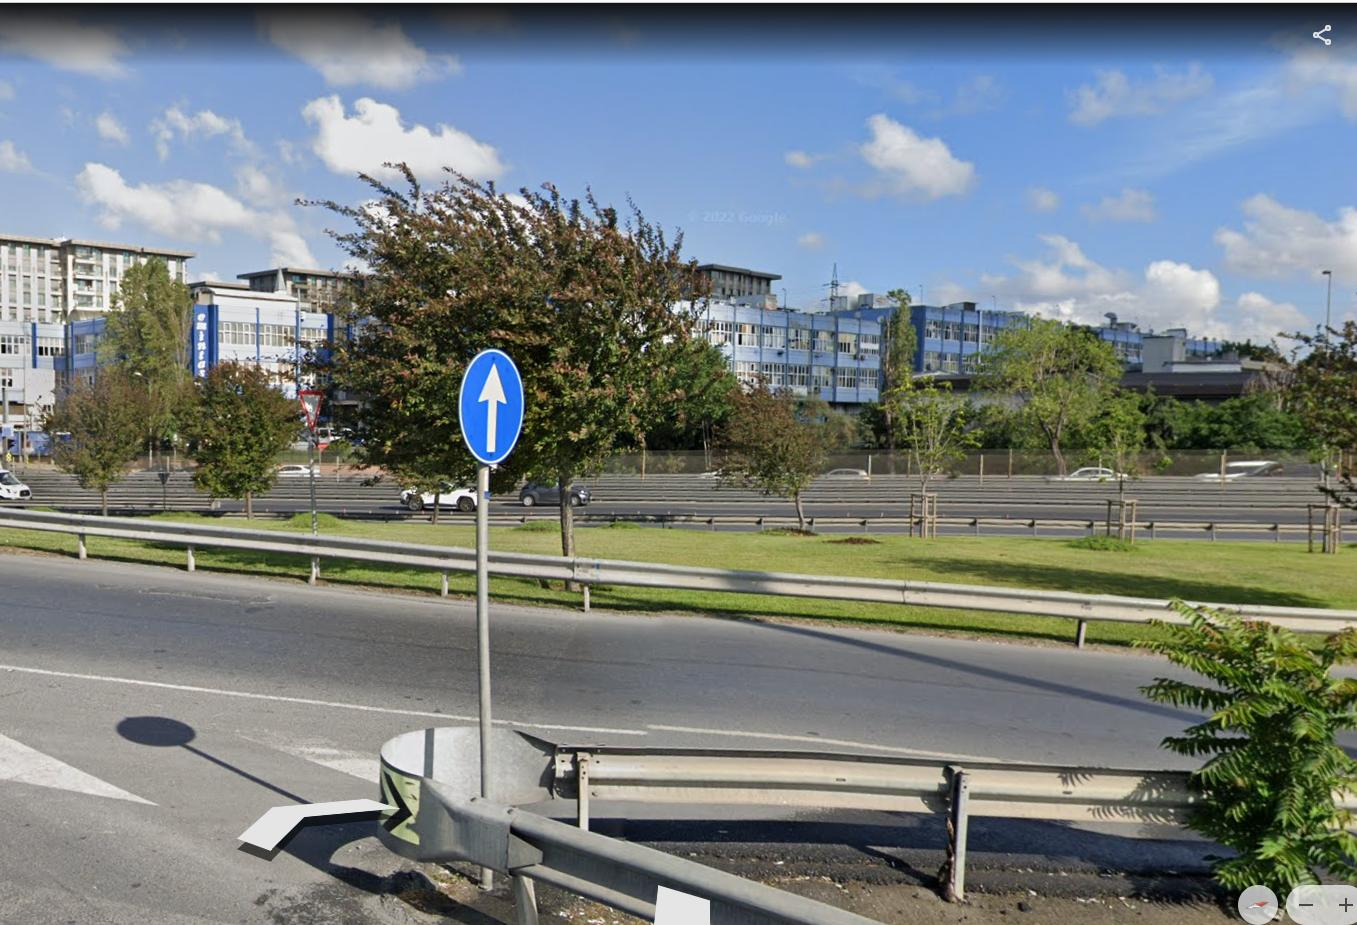forward: (461, 352, 522, 460)
